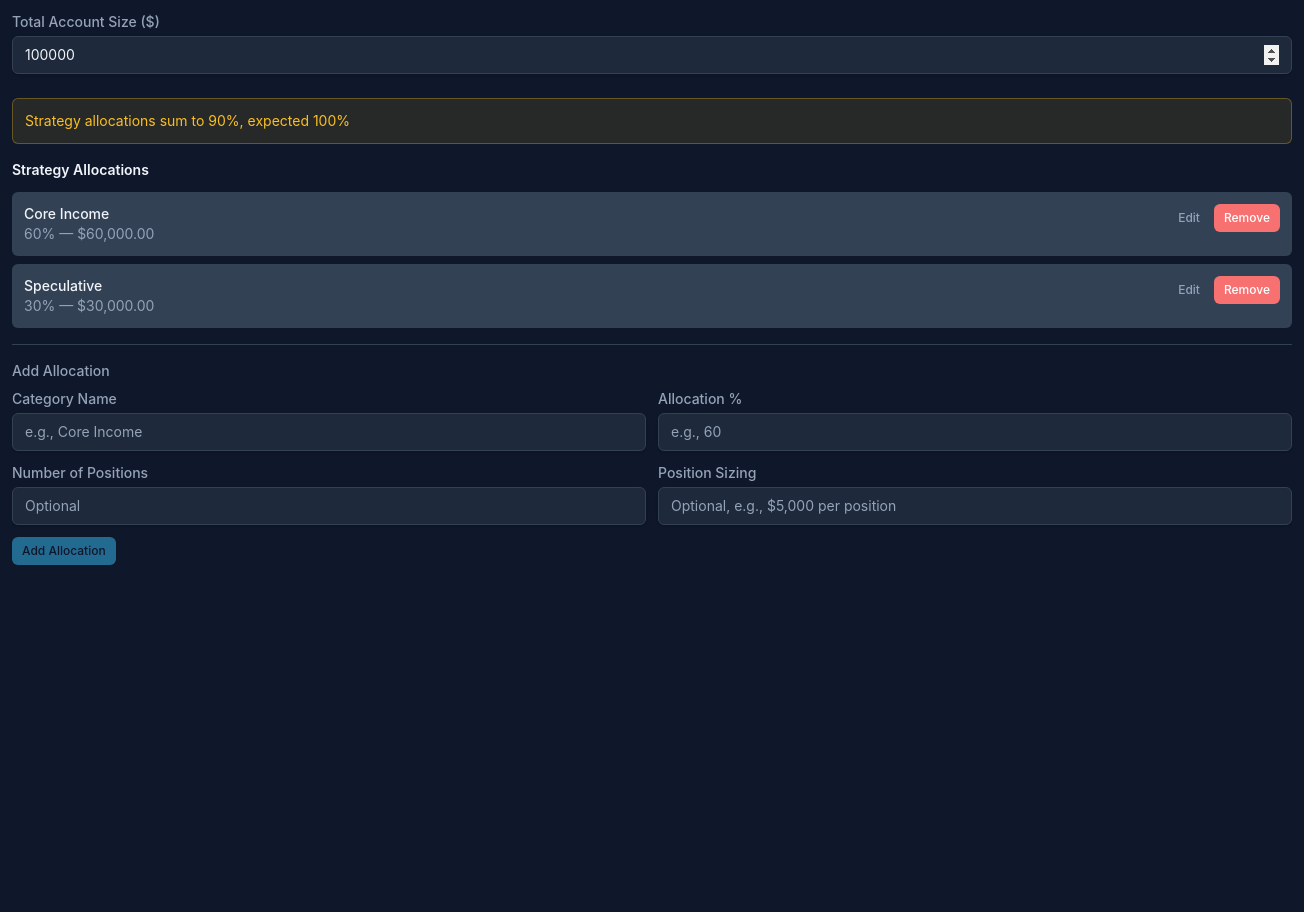
it: AccountSizingSection › cancels edit mode without saving
Click the button with aria-label "edit allocation: core income": (1189, 218) [1168,204,1210,232]
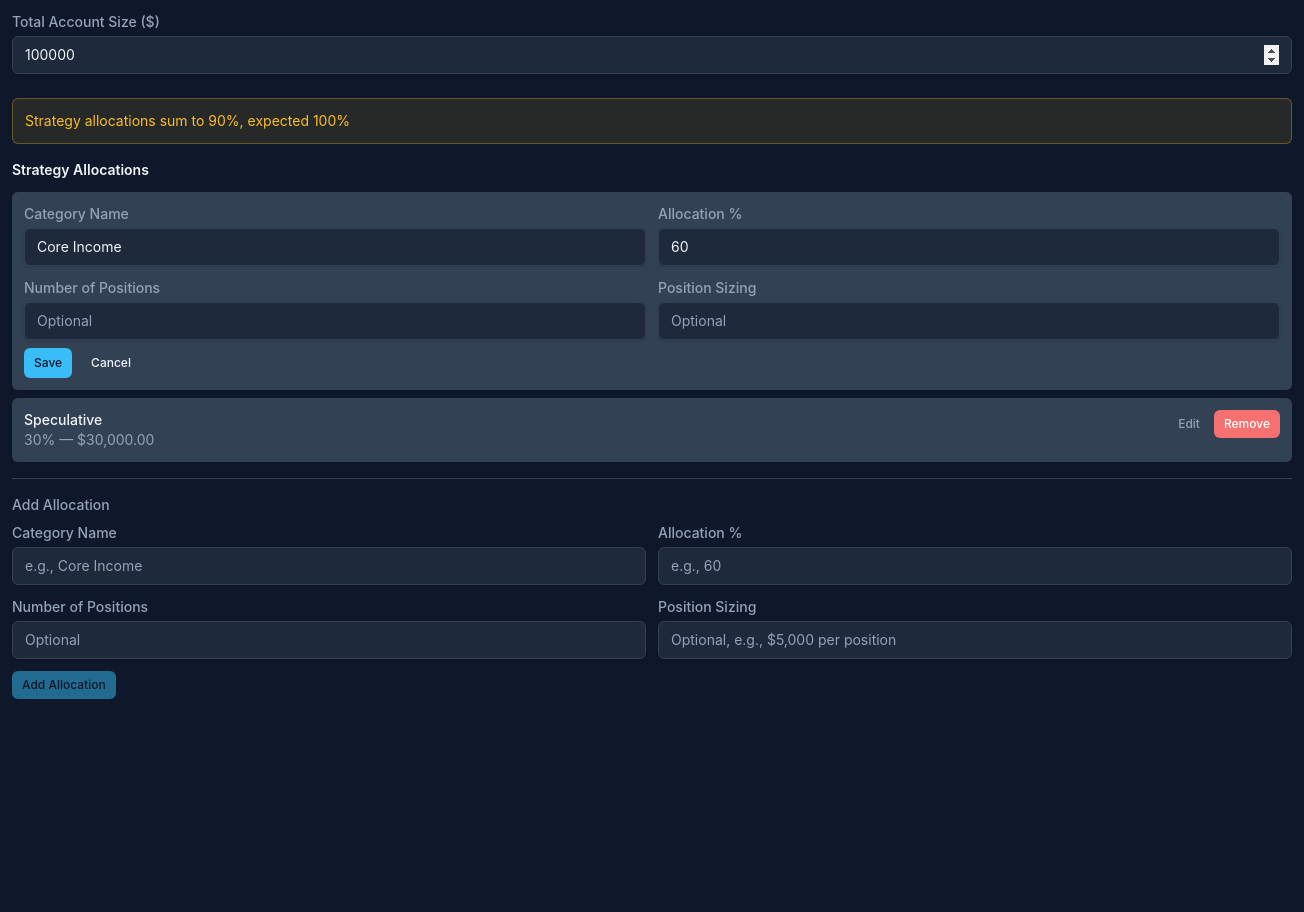
Click the button "Cancel": (111, 363) [80,348,142,378]
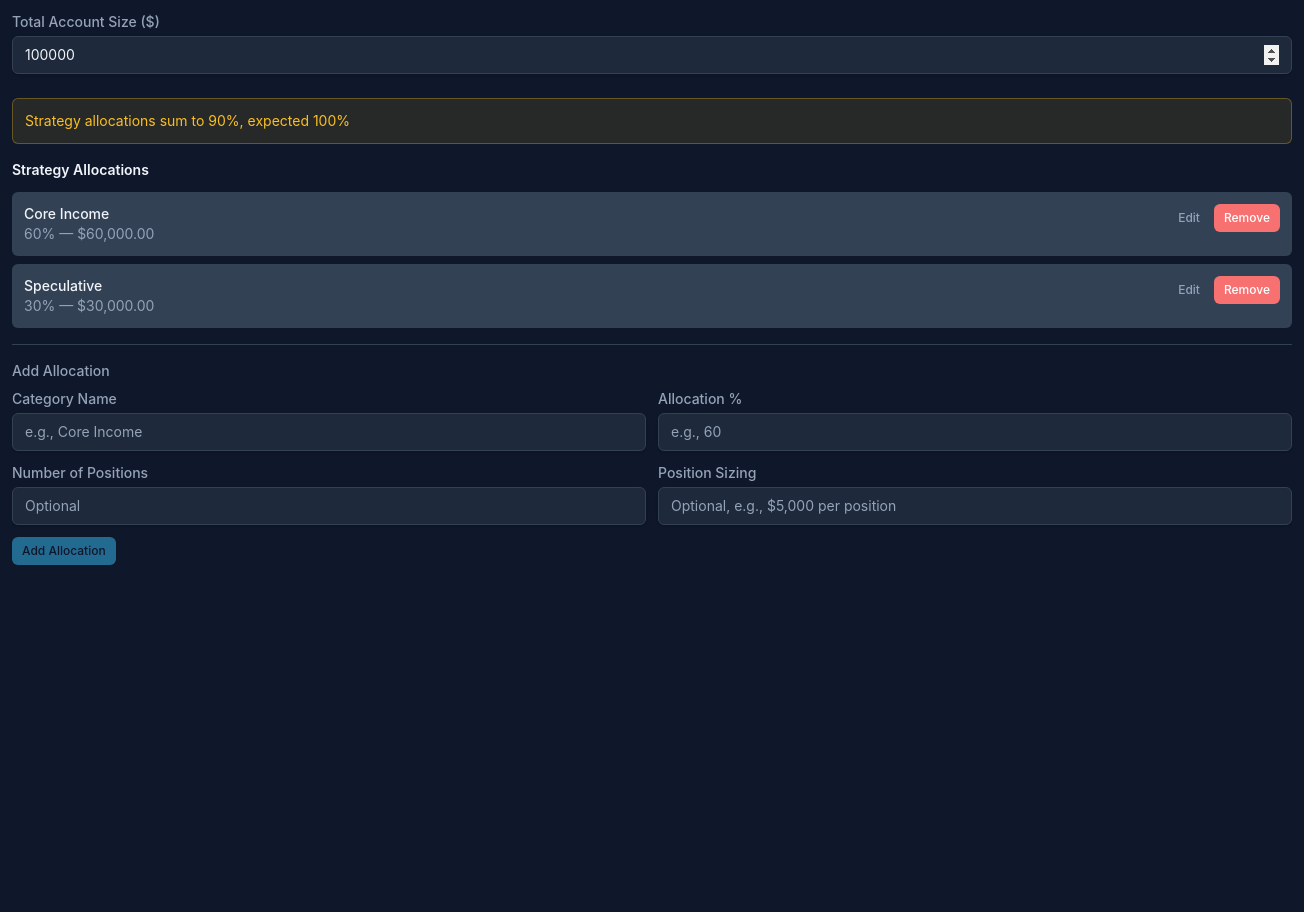
expect the text "Core Income" is shown: met, box [24,205,109,222]
